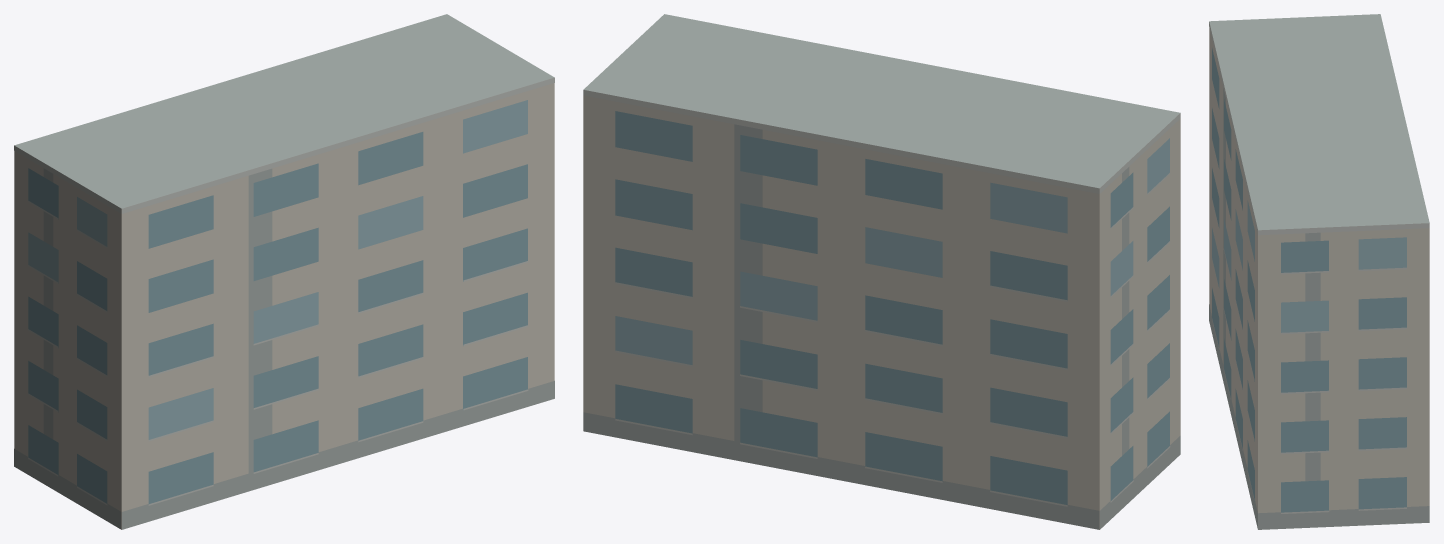
The model's file is residential-5aa0781f-84f1-4ddc-94ad-01b656593c43.glb.
3 renders of one model, left to right at view 1: azimuth 30°, elevation 25°; view 2: azimuth 150°, elevation 25°; view 3: azimuth 270°, elevation 25°, orthographic. The views are drawn at different scales.
Visible parts, largest first — view 1: residential-5aa0781f-84f1-4ddc-94ad-01b656593c43.tmp; view 2: residential-5aa0781f-84f1-4ddc-94ad-01b656593c43.tmp; view 3: residential-5aa0781f-84f1-4ddc-94ad-01b656593c43.tmp.
Part boxes in pixels (x1=…): residential-5aa0781f-84f1-4ddc-94ad-01b656593c43.tmp: x1=14, y1=14, x2=554, y2=529; residential-5aa0781f-84f1-4ddc-94ad-01b656593c43.tmp: x1=583, y1=14, x2=1180, y2=529; residential-5aa0781f-84f1-4ddc-94ad-01b656593c43.tmp: x1=1209, y1=14, x2=1429, y2=529.
Size of the model in its own units: 22.61 by 14.6 by 9.75.
